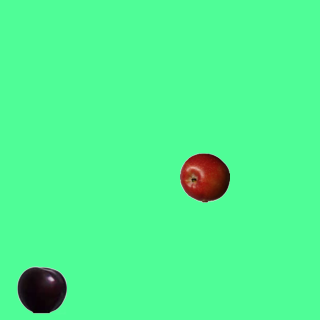Apple Braeburn: (179, 152, 229, 202)
Cherry Wax Black: (16, 264, 66, 314)
